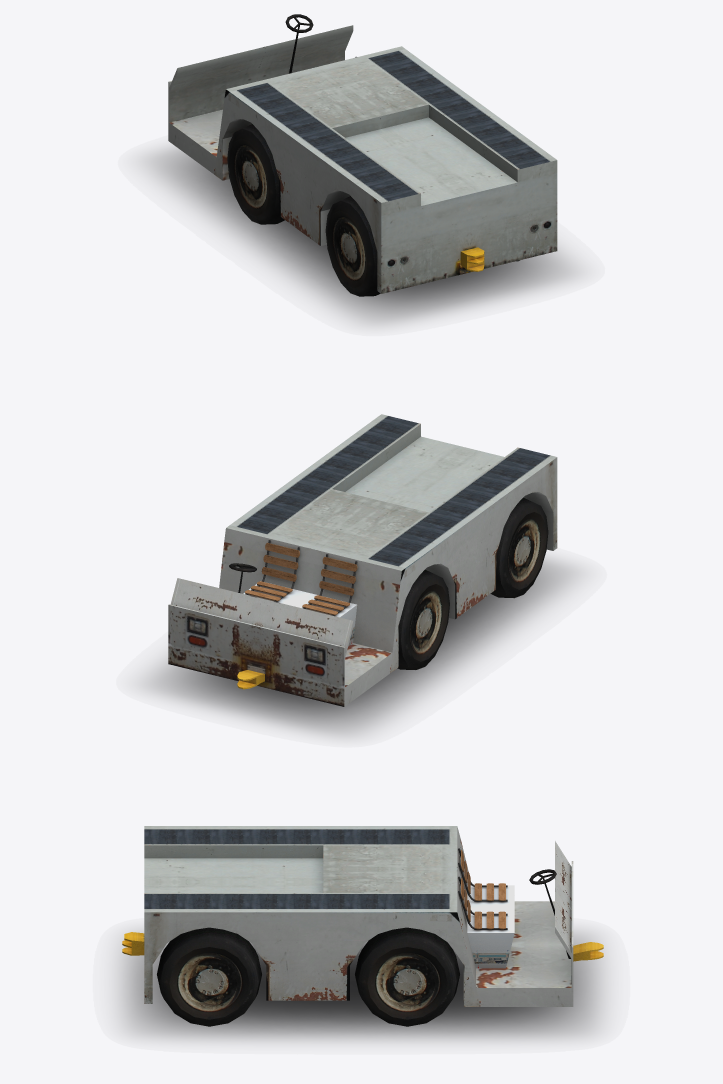
Rendered from Generic.gltf.
3 views of the same model, one above another, from view 1: azimuth 30°, elevation 25°; view 2: azimuth 150°, elevation 25°; view 3: azimuth 270°, elevation 25° (orthographic).
Visible parts, largest first — view 1: Generic; view 2: Generic; view 3: Generic.
Part boxes in pixels (x1,y1,x2,y2): Generic: (149, 14, 573, 323); Generic: (148, 414, 574, 734); Generic: (121, 826, 603, 1040).
Bounding box in the file's own units: 4.06 × 1.41 × 6.94.
